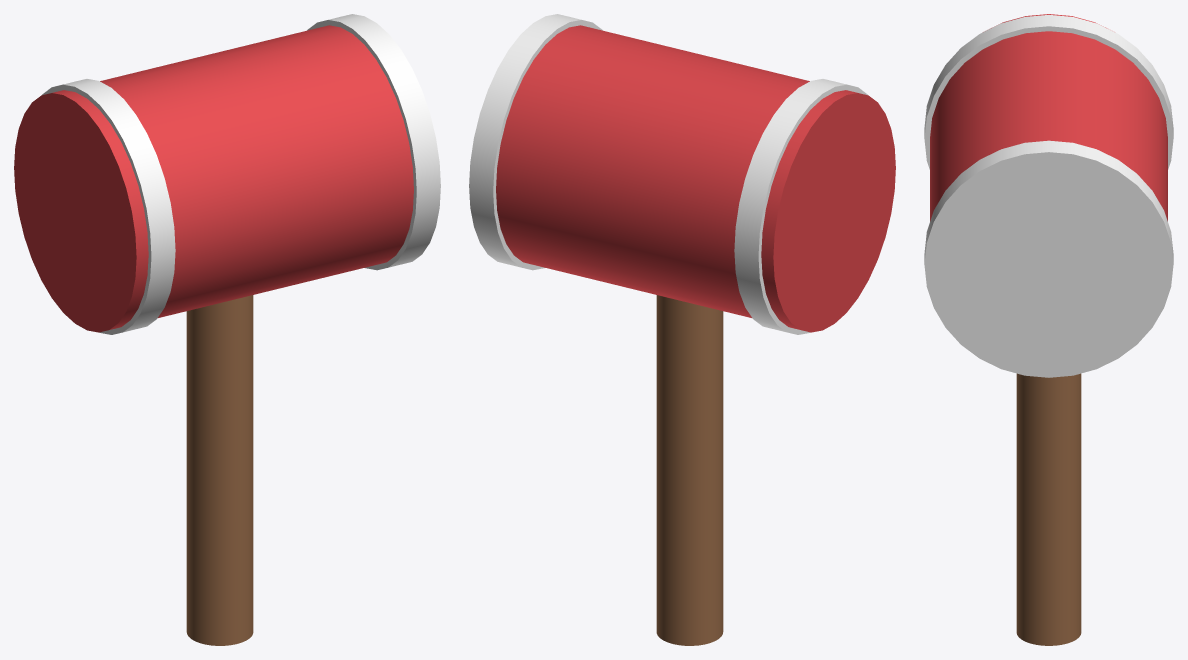
Rendered from kladivo.glb.
3 renders of one model, left to right at view 1: azimuth 30°, elevation 25°; view 2: azimuth 150°, elevation 25°; view 3: azimuth 270°, elevation 25°, orthographic. The views are drawn at different scales.
Parts seen in each view (by area): view 1: kladivo_hlava, kladivo_nasada, kladivo, kladivo_cap_-1; view 2: kladivo_hlava, kladivo_nasada, kladivo, kladivo_cap_-1; view 3: kladivo, kladivo_hlava, kladivo_nasada, kladivo_cap_-1.
Part boxes in pixels (box(x1,y1,x2,y2)): kladivo_hlava: box(14, 25, 413, 332); kladivo_nasada: box(186, 295, 253, 645); kladivo: box(307, 14, 440, 270); kladivo_cap_-1: box(42, 79, 175, 334); kladivo_hlava: box(496, 25, 895, 332); kladivo_nasada: box(656, 295, 723, 645); kladivo: box(469, 14, 602, 270); kladivo_cap_-1: box(734, 79, 867, 334); kladivo: box(924, 140, 1173, 377); kladivo_hlava: box(930, 14, 1167, 221); kladivo_nasada: box(1016, 373, 1081, 645); kladivo_cap_-1: box(924, 15, 1173, 169).
Size of the model in its own units: 0.625 by 1.13 by 0.46.
